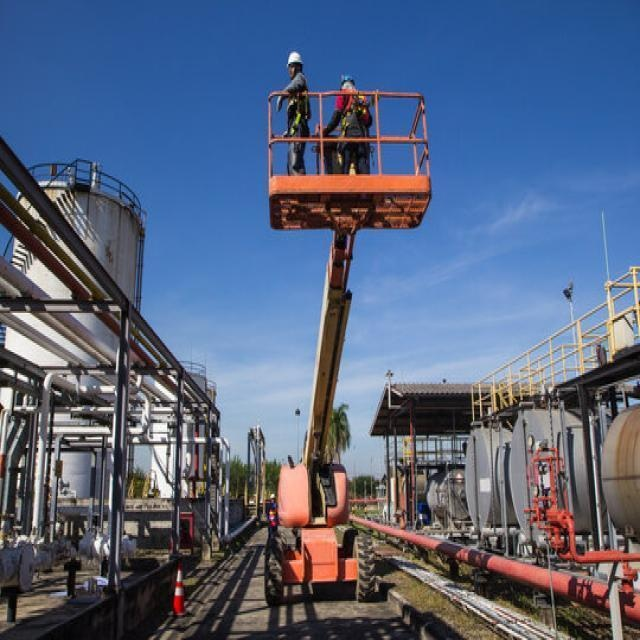Arnes_seguridad: (339, 90, 366, 141), (286, 86, 309, 135)
